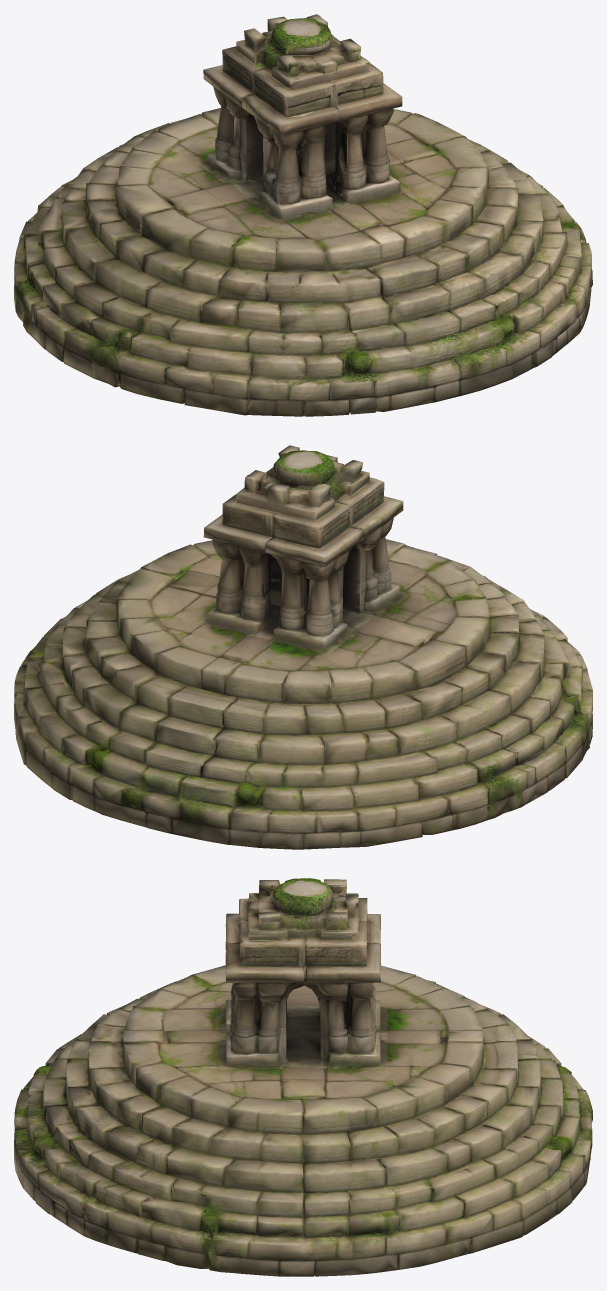
The model's file is templte.glb.
3 renders of one model, top to bottom at view 1: azimuth 30°, elevation 25°; view 2: azimuth 150°, elevation 25°; view 3: azimuth 270°, elevation 25°, orthographic.
Visible parts, largest first — view 1: Mesh_0; view 2: Mesh_0; view 3: Mesh_0.
Boxes of the visible parts, bbox=[...] form: Mesh_0: bbox=[14, 14, 592, 416]; Mesh_0: bbox=[14, 445, 592, 849]; Mesh_0: bbox=[14, 878, 592, 1276].
Bounding box in the file's own units: 19.72 × 10 × 19.69.
Materials: 1 (1 with a texture image).
